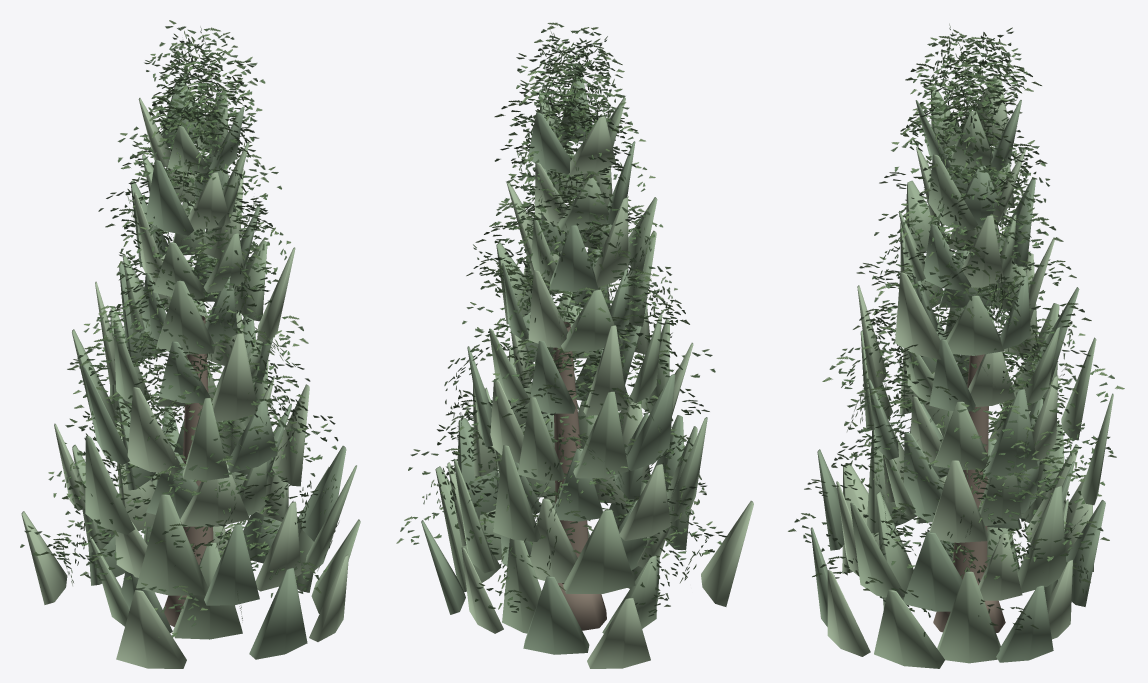
Rendered from tree2_cypress.glb.
3 renders of one model, left to right at view 1: azimuth 30°, elevation 25°; view 2: azimuth 150°, elevation 25°; view 3: azimuth 270°, elevation 25°, orthographic.
Parts seen in each view (by area): view 1: body, cards; view 2: body, cards; view 3: body, cards.
Part boxes in pixels (x1,y1,x2,y2): body: (21,79,360,668); cards: (20,20,339,637); body: (421,69,753,668); cards: (396,22,727,616); body: (810,76,1113,668); cards: (788,23,1124,636).
Bounding box in the file's own units: 3.73 × 6.95 × 3.71.
5 materials, 1 textured.
